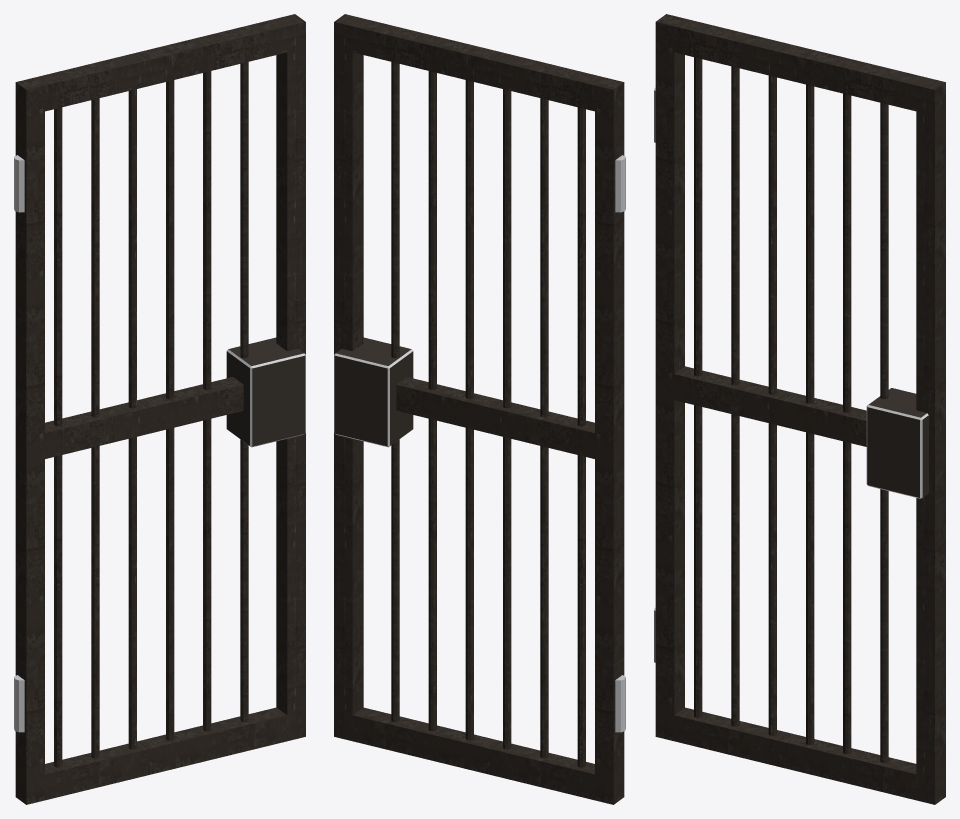
File: cell_door.glb
The picture shows the model from 3 angles, left to right: view 1: azimuth 30°, elevation 25°; view 2: azimuth 150°, elevation 25°; view 3: azimuth 330°, elevation 25°; orthographic projection.
Visible parts, largest first — view 1: cell_door; view 2: cell_door; view 3: cell_door.
Boxes of the visible parts, box(x1,y1,x2,y2) form: cell_door: box(14, 14, 305, 804); cell_door: box(334, 14, 625, 804); cell_door: box(654, 14, 945, 804).
Size of the model in its own units: 0.92 by 2.2 by 0.14.
2 materials, 1 textured.
